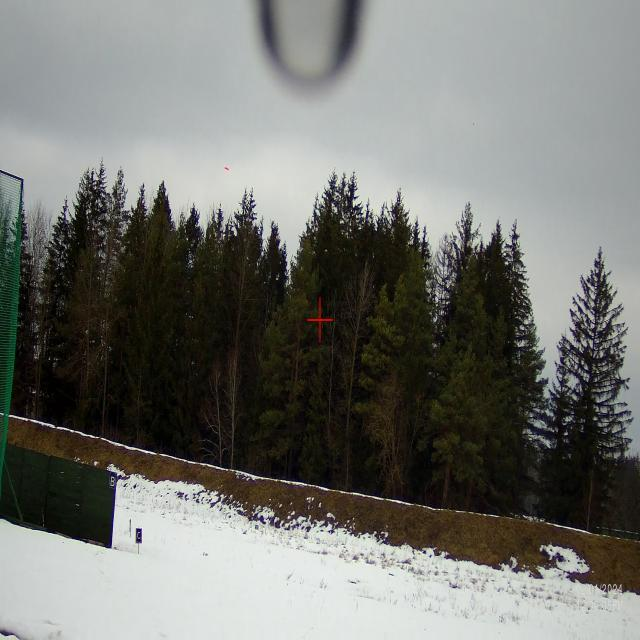entire: (222, 163, 230, 178)
